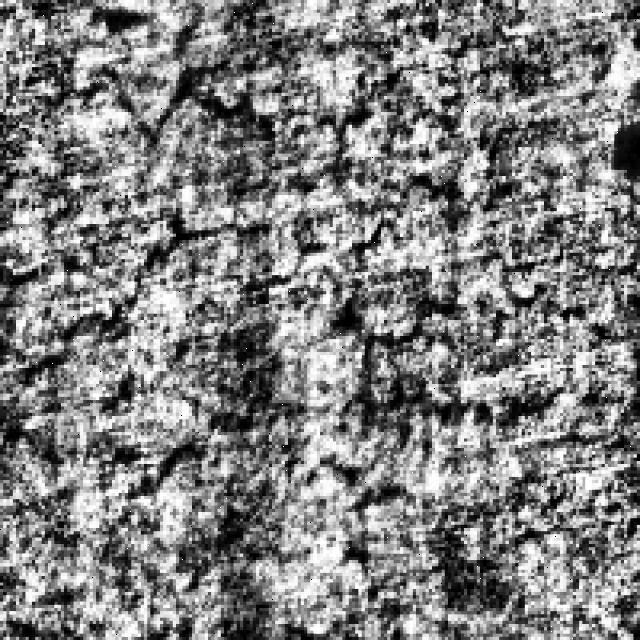Pitted_Surface: (10, 147, 468, 355), (58, 28, 442, 195), (83, 371, 573, 483)
